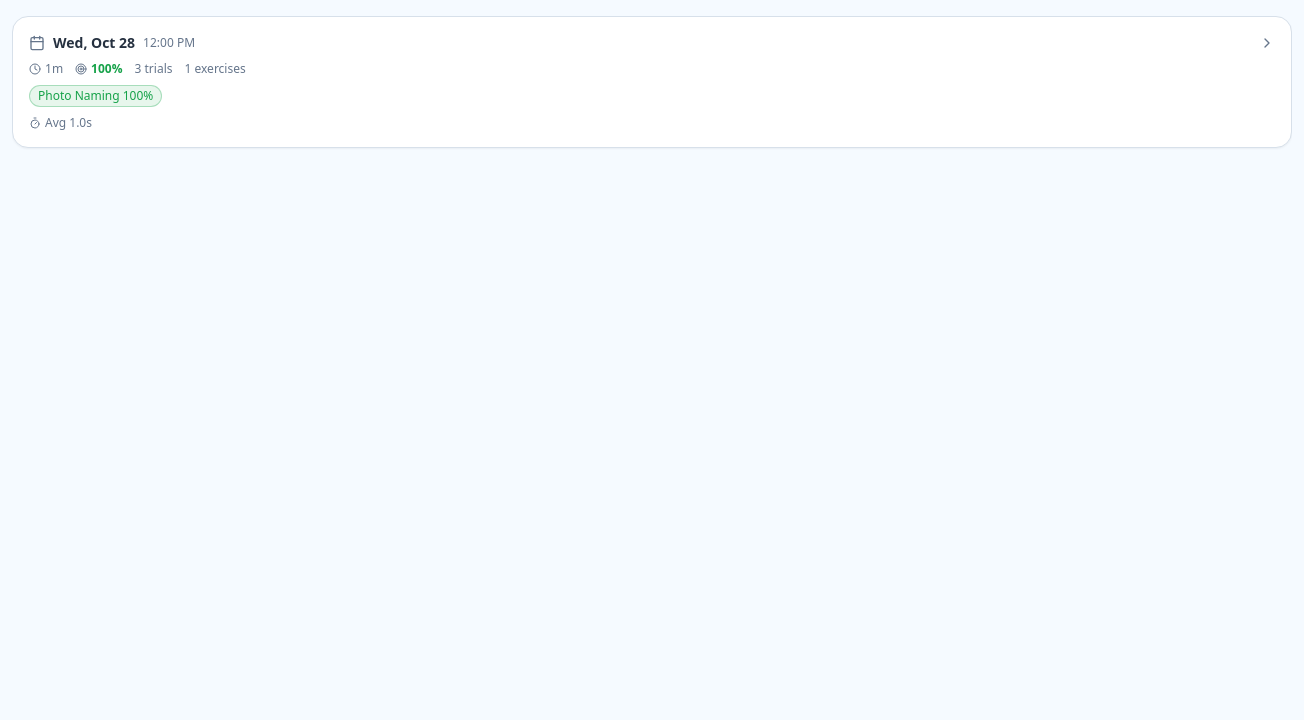
Test: session response-time displays › clinician sessions use measured event summary timing and normalized utterance detail timing
Expected: the text "Avg 1.0s" is shown, top-left (29, 115), bottom-right (92, 131)
Click the button: (652, 82) top-left (13, 17), bottom-right (1291, 147)
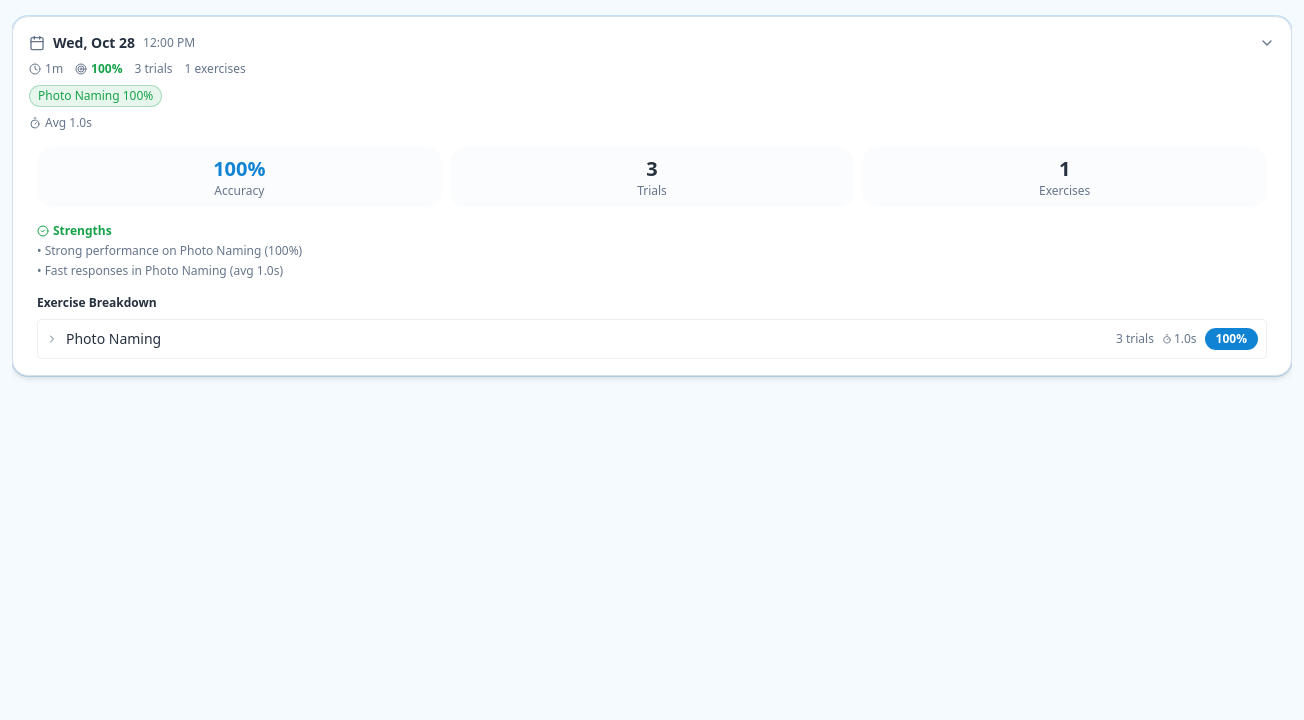
Expected: the button "Photo Naming 3 trials 1.0s 100%" is shown
Click the button "Photo Naming 3 trials 1.0s 100%": (114, 338) top-left (38, 320), bottom-right (1266, 358)
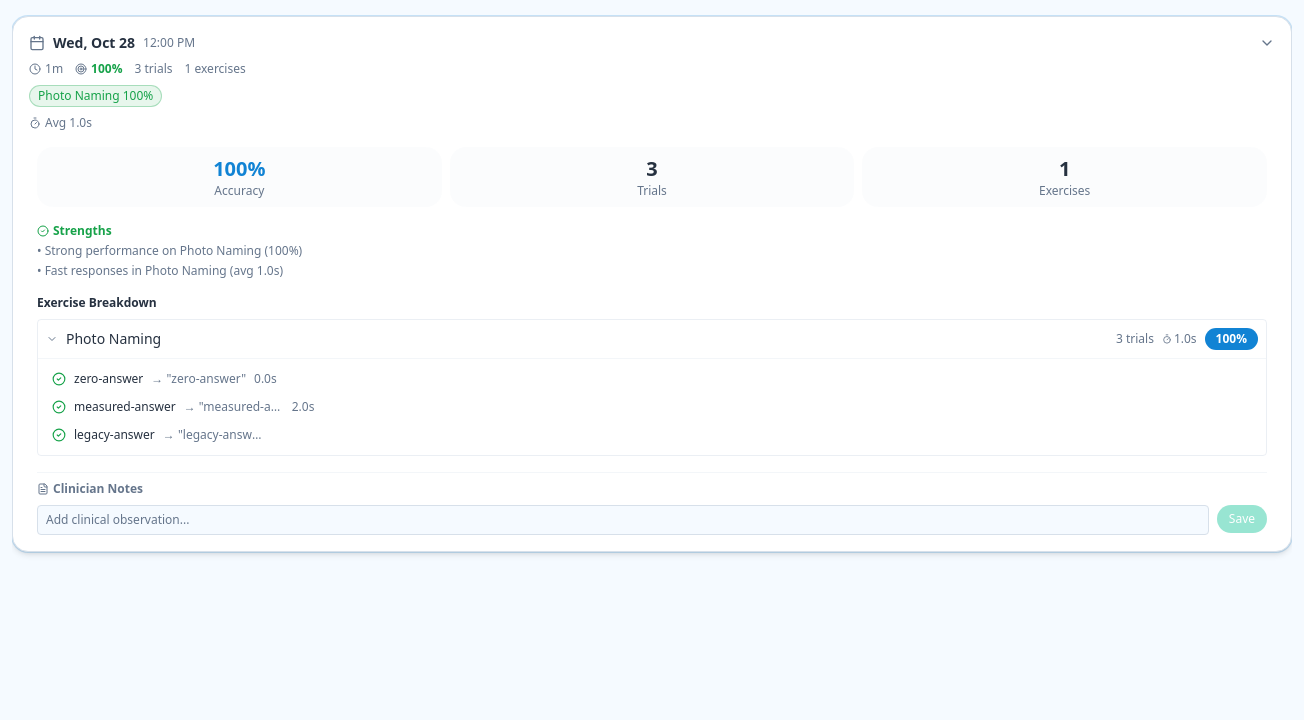
Expected: the element showing "zero-answer → \"zero-answer\" 0.0s" is shown, top-left (52, 370), bottom-right (277, 387)
